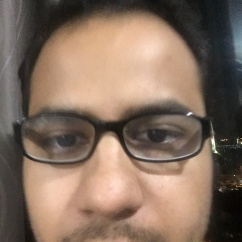glasses: (14, 114, 210, 162)
